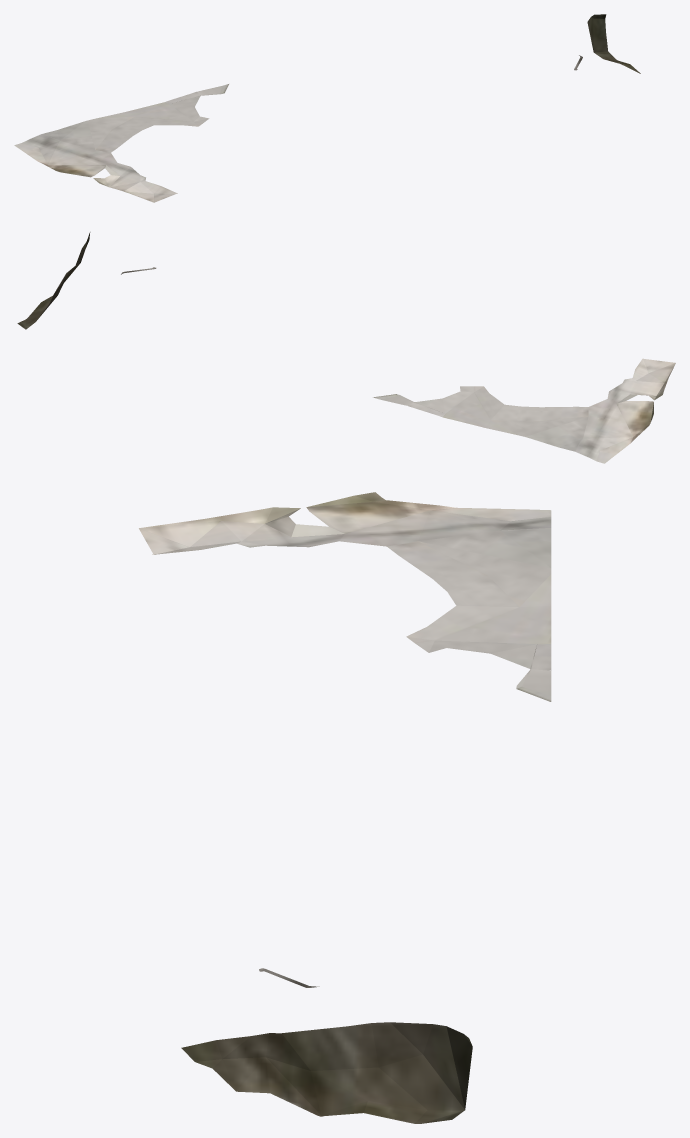
3 renders of one model, top to bottom at view 1: azimuth 30°, elevation 25°; view 2: azimuth 150°, elevation 25°; view 3: azimuth 270°, elevation 25°, orthographic. The views are drawn at different scales.
Bounding box in the file's own units: 5.9 × 0.3762 × 1.85.
Materials: 1 (1 with a texture image).
